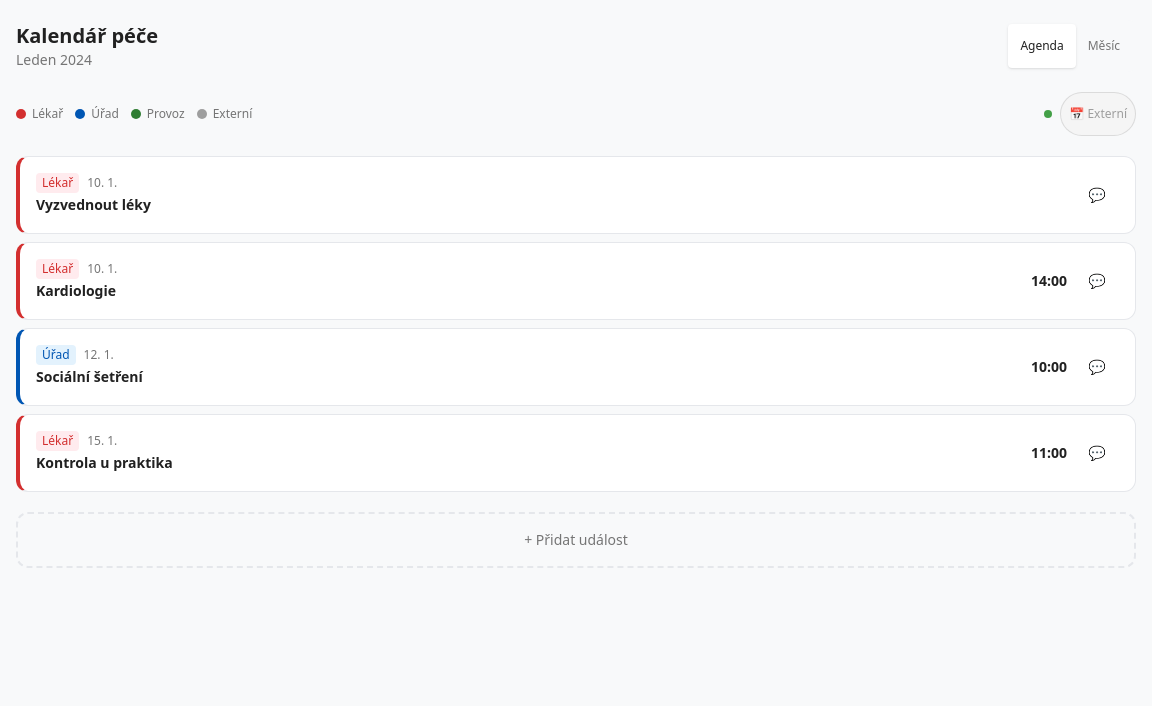
Scenario: UAT 3.1: Selektivní synchronizace externích událostí › Vypnutí toggle skryje externí události (soft-remove z pohledu)
Step 1. Click the button "📅 Externí" → point(1098, 114), box [1060, 92, 1136, 136]
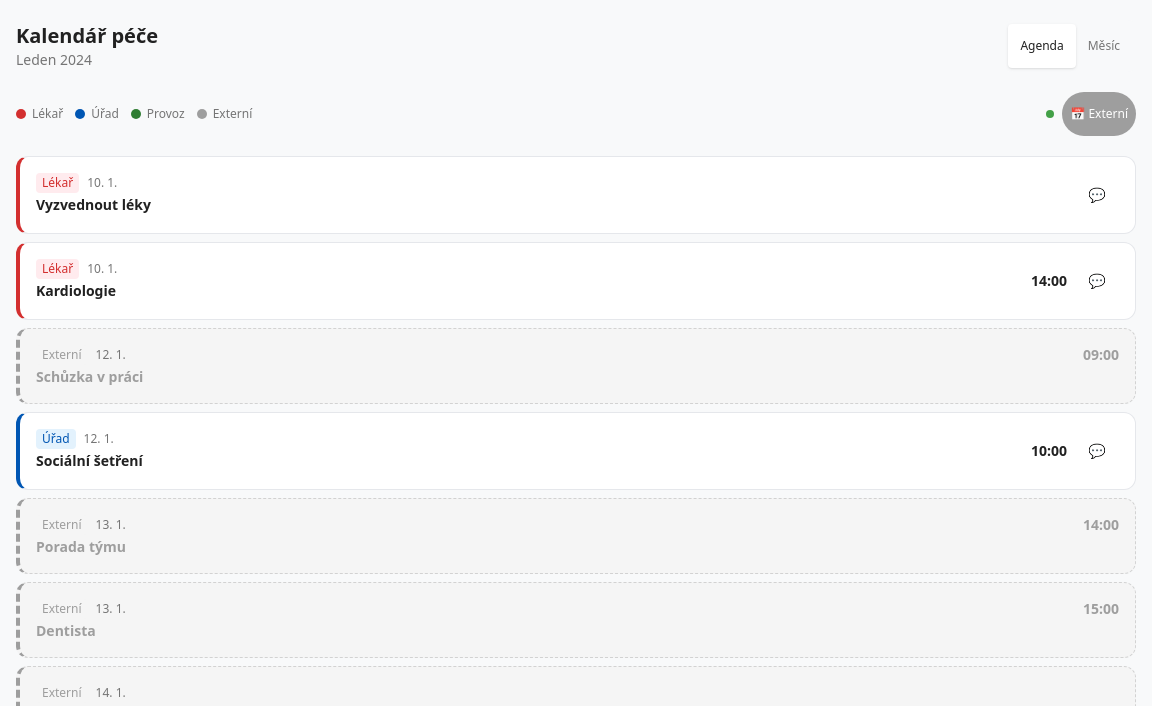
Result: the heading "Schůzka v práci" is shown at [36, 367, 143, 386]
Step 2. Click the button "📅 Externí" → point(1099, 114), box [1062, 92, 1136, 136]
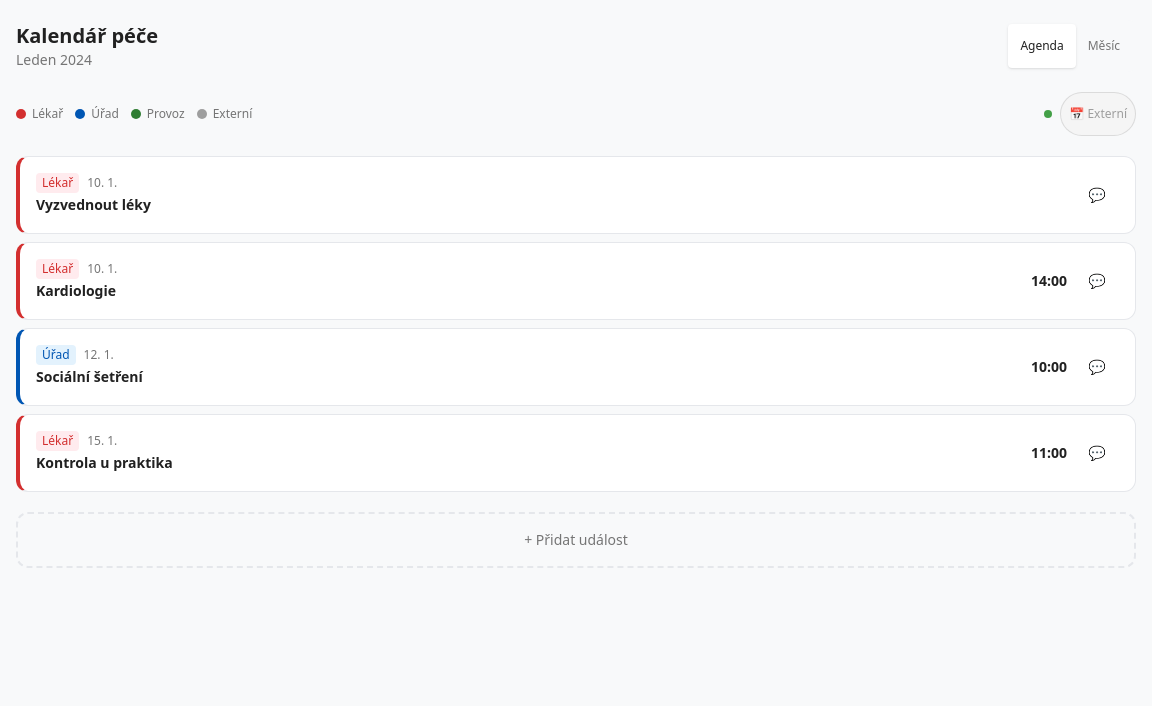
Result: the heading "Schůzka v práci" is gone
